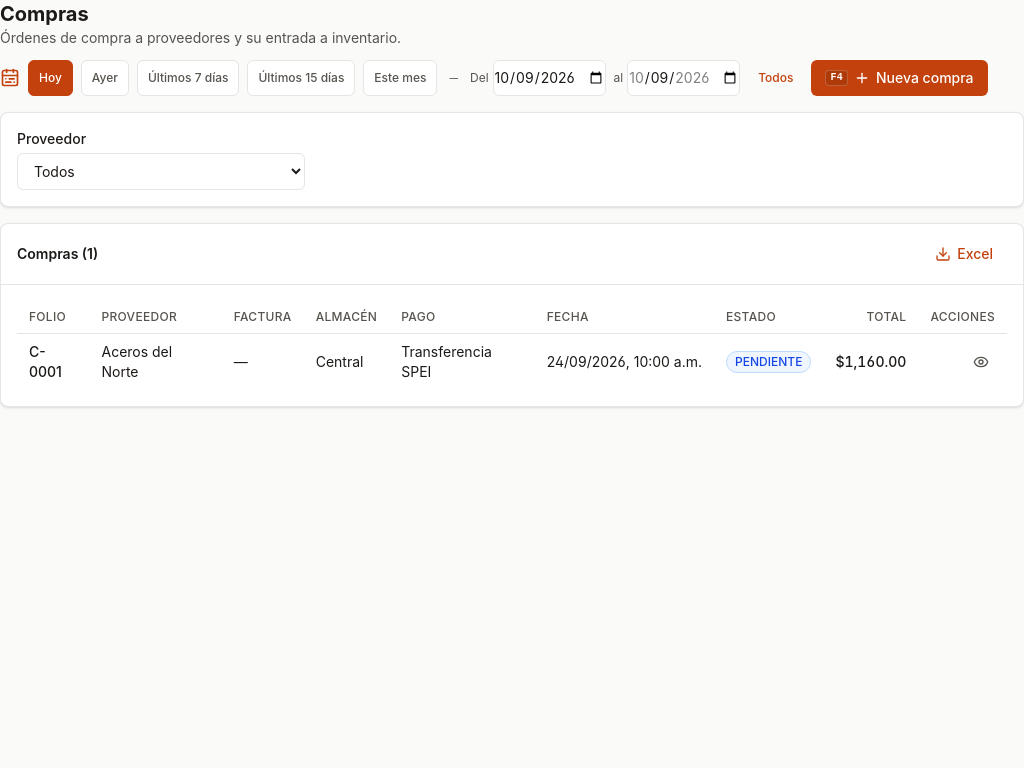
Test: ComprasPage (profundización) › muestra turno, notas y guion sin factura en el detalle
Step 1. Click the button named "Ver detalle de C-0001" → (981, 362), box 967,348 -> 995,376
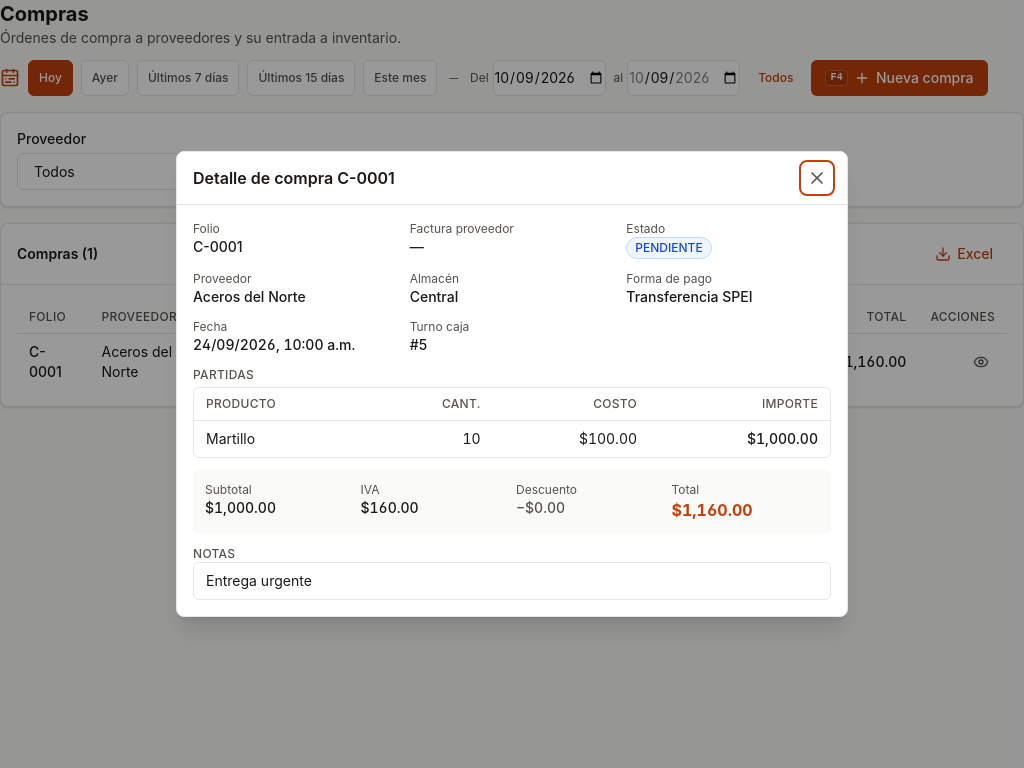
Expected: the text "PENDIENTE" is shown, 626,237 -> 712,259
Expected: the text "#5" is shown, 410,336 -> 428,353
Expected: the text "Entrega urgente" is shown, 193,562 -> 831,600
